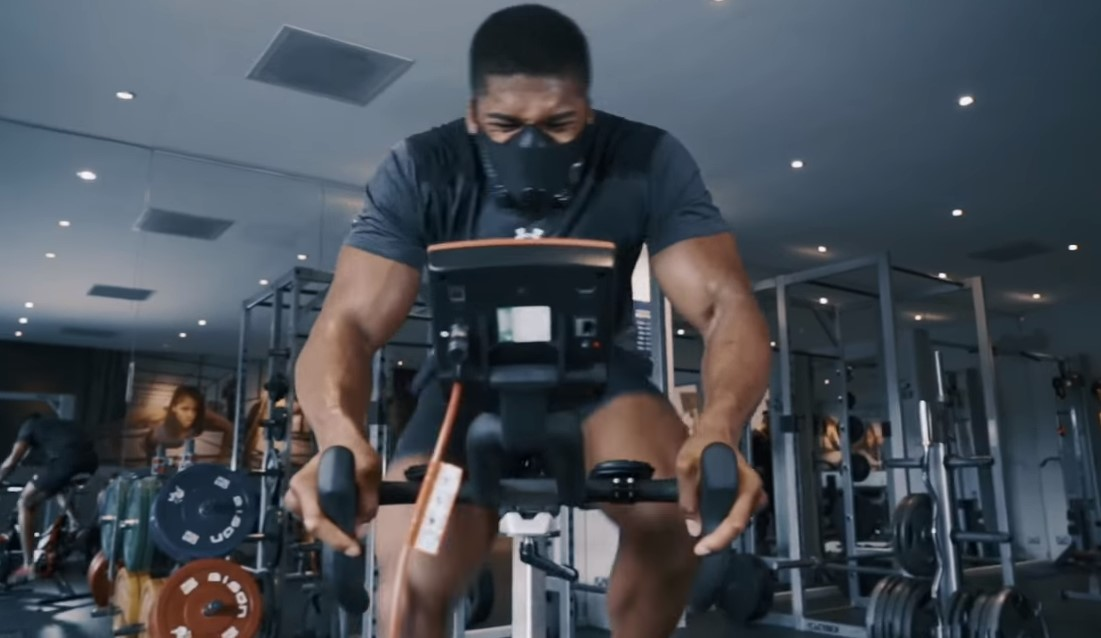face_no_mask: (168, 380, 204, 439)
face_with_mask: (465, 5, 601, 214)
